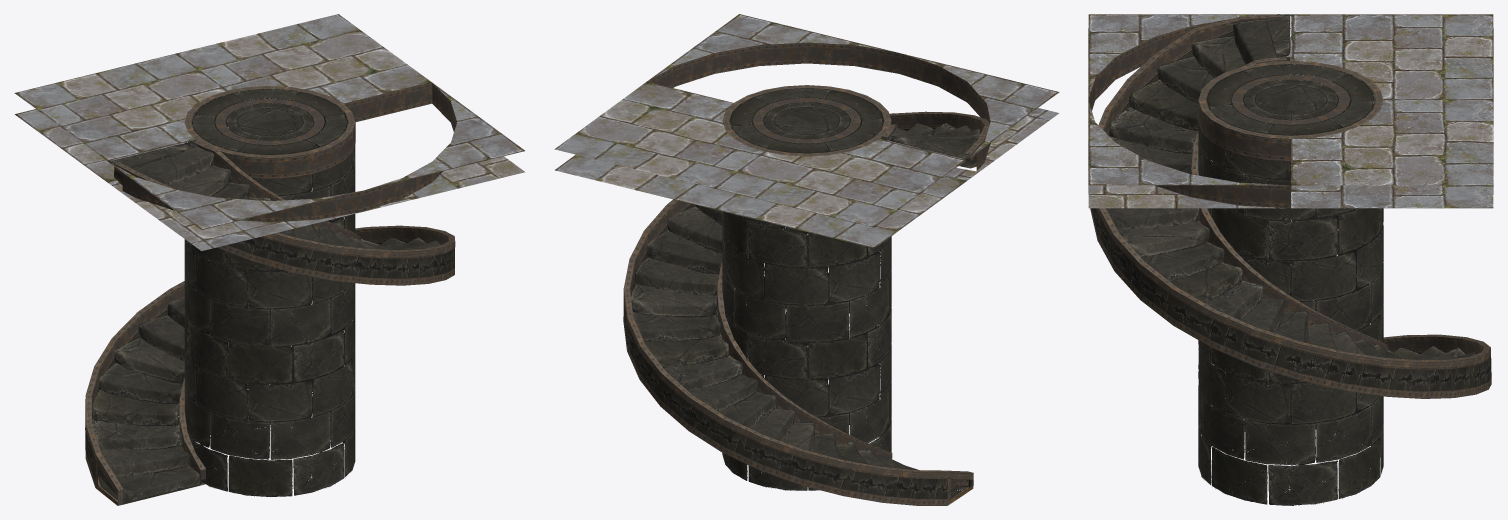
The picture shows the model from 3 angles, left to right: view 1: azimuth 30°, elevation 25°; view 2: azimuth 150°, elevation 25°; view 3: azimuth 270°, elevation 25°; orthographic projection. The views are drawn at different scales.
Parts seen in each view (by area): view 1: SM_Greathall_Spiral_Stepset_01_LOD0; view 2: SM_Greathall_Spiral_Stepset_01_LOD0; view 3: SM_Greathall_Spiral_Stepset_01_LOD0.
Part boxes in pixels (x1,y1,x2,y2): SM_Greathall_Spiral_Stepset_01_LOD0: (14,14,525,505); SM_Greathall_Spiral_Stepset_01_LOD0: (554,14,1059,505); SM_Greathall_Spiral_Stepset_01_LOD0: (1088,14,1493,505).
Bounding box in the file's own units: 8.01 × 8.03 × 8.01.
Materials: 3 (3 with a texture image).
